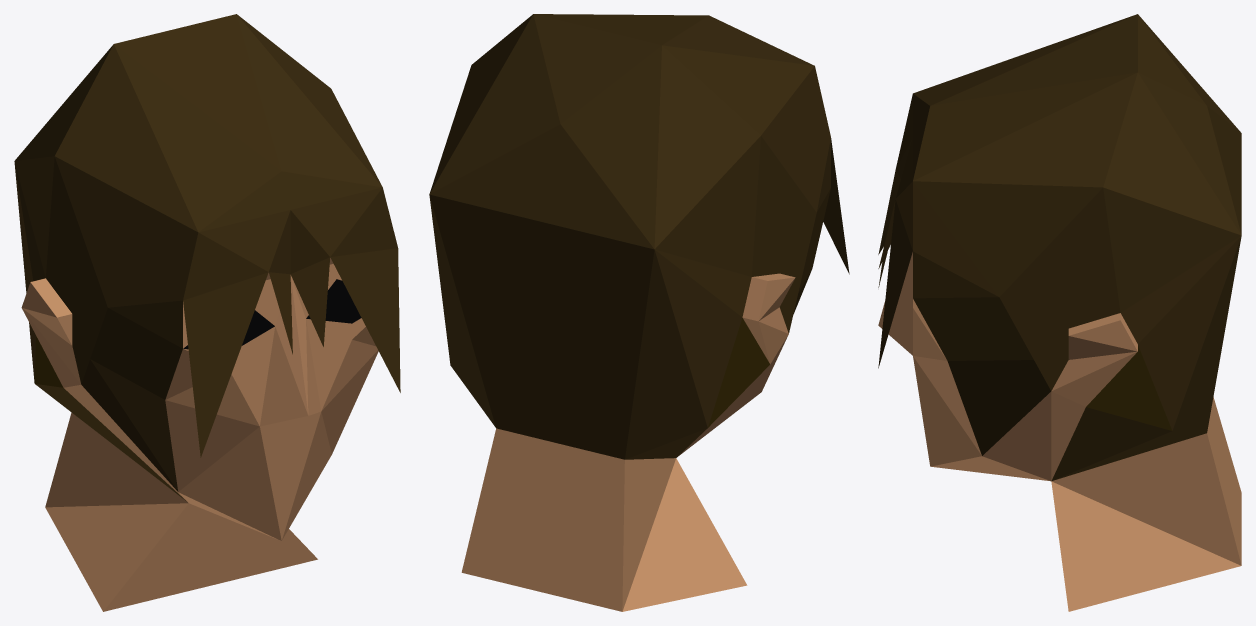
Rendered from model_393_idk.obj.
3 renders of one model, left to right at view 1: azimuth 30°, elevation 25°; view 2: azimuth 150°, elevation 25°; view 3: azimuth 270°, elevation 25°, orthographic. The views are drawn at different scales.
Parts seen in each view (by area): view 1: 393; view 2: 393; view 3: 393.
Boxes of the visible parts, left/top/right/bottom form: 393: left=14, top=14, right=400, bottom=611; 393: left=429, top=14, right=849, bottom=611; 393: left=878, top=14, right=1241, bottom=611.
Size of the model in its own units: 20 by 33 by 21.
